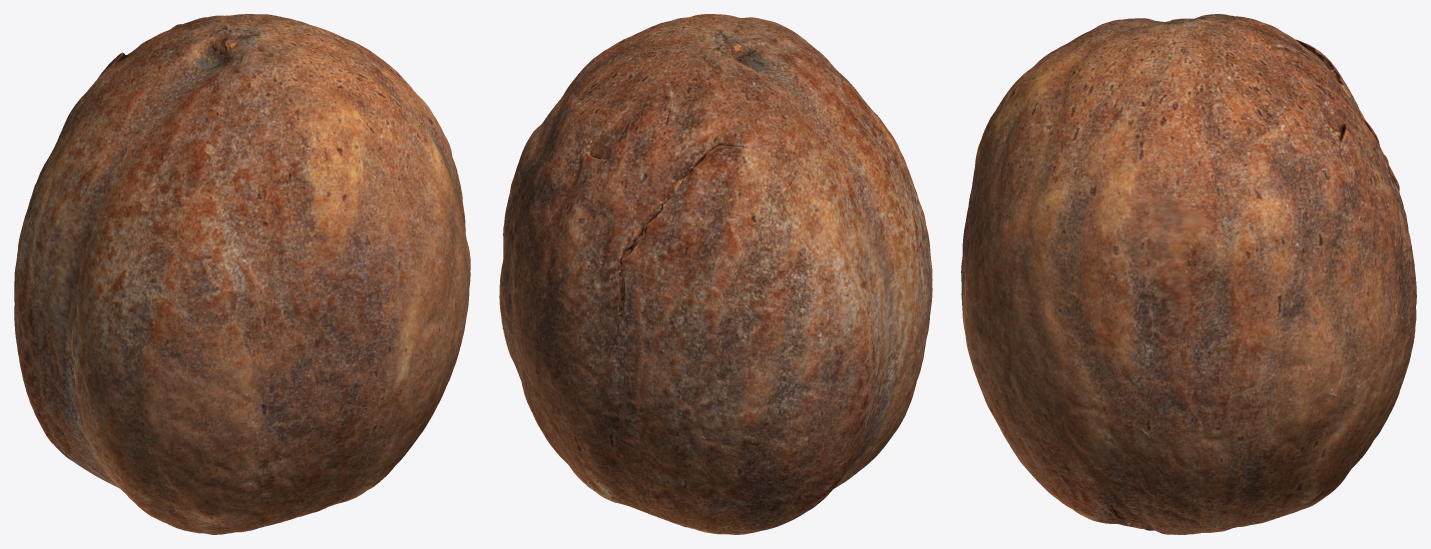
File: nutmeg-real-scan.glb
3 renders of one model, left to right at view 1: azimuth 30°, elevation 25°; view 2: azimuth 150°, elevation 25°; view 3: azimuth 270°, elevation 25°, orthographic. The views are drawn at different scales.
Parts seen in each view (by area): view 1: Model; view 2: Model; view 3: Model.
Boxes of the visible parts, x1,y1,x2,y2 form: Model: (14, 14, 470, 534); Model: (499, 14, 932, 534); Model: (961, 14, 1416, 534).
Size of the model in its own units: 0.9381 by 1.15 by 0.9438.
1 material, 1 textured.
